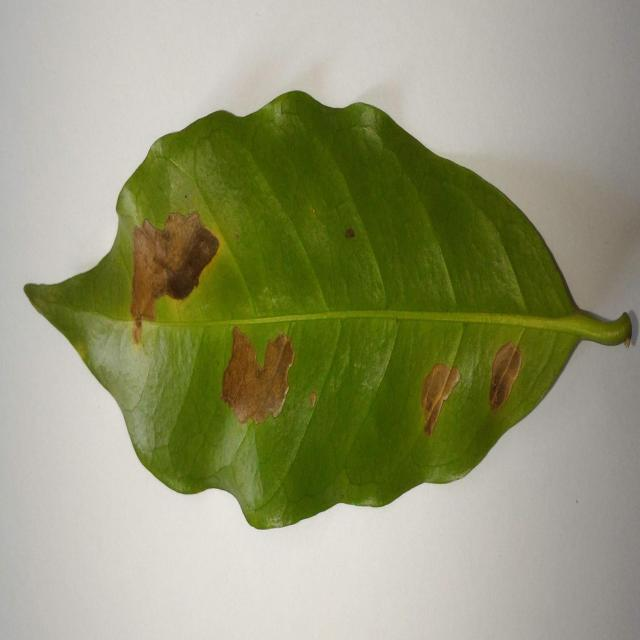Plaga-Minador: (22, 92, 636, 532)
